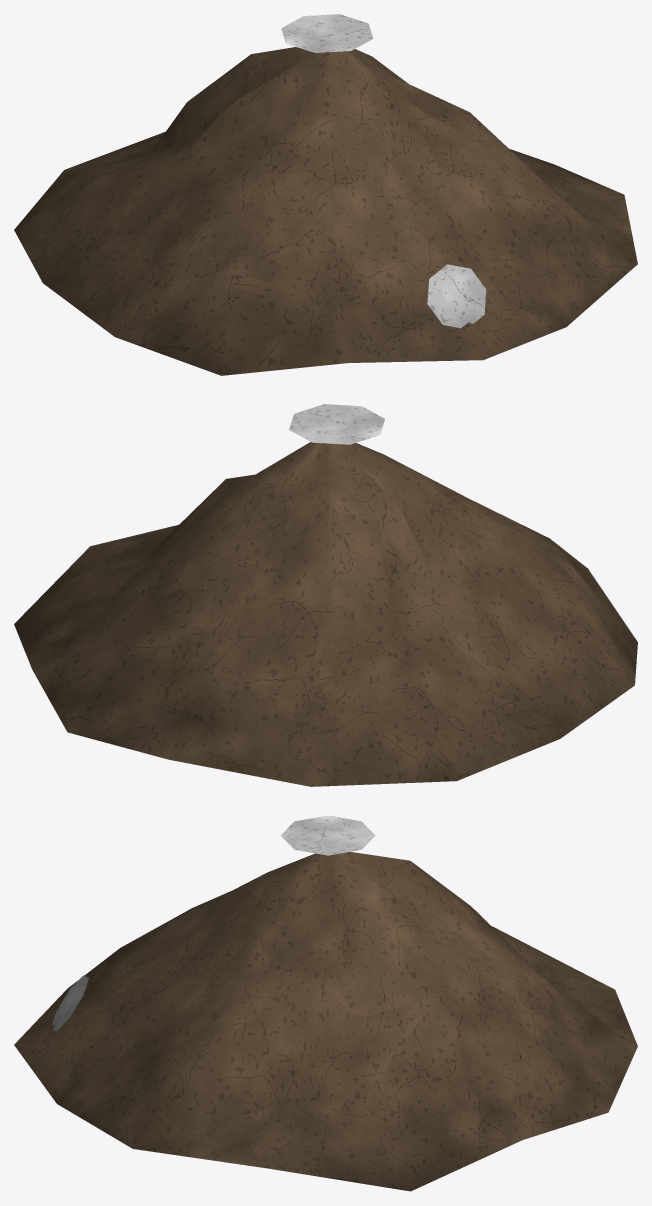
The model's file is anthill.glb.
3 views of the same model, one above another, from view 1: azimuth 30°, elevation 25°; view 2: azimuth 150°, elevation 25°; view 3: azimuth 270°, elevation 25° (orthographic). The views are drawn at different scales.
Visible parts, largest first — view 1: anthill; view 2: anthill; view 3: anthill.
Part boxes in pixels (x1,y1,x2,y2): anthill: (14, 14, 637, 375); anthill: (14, 404, 637, 786); anthill: (14, 815, 637, 1191).
Size of the model in its own units: 17.52 by 7.36 by 18.37.
Materials: 2 (2 with a texture image).
